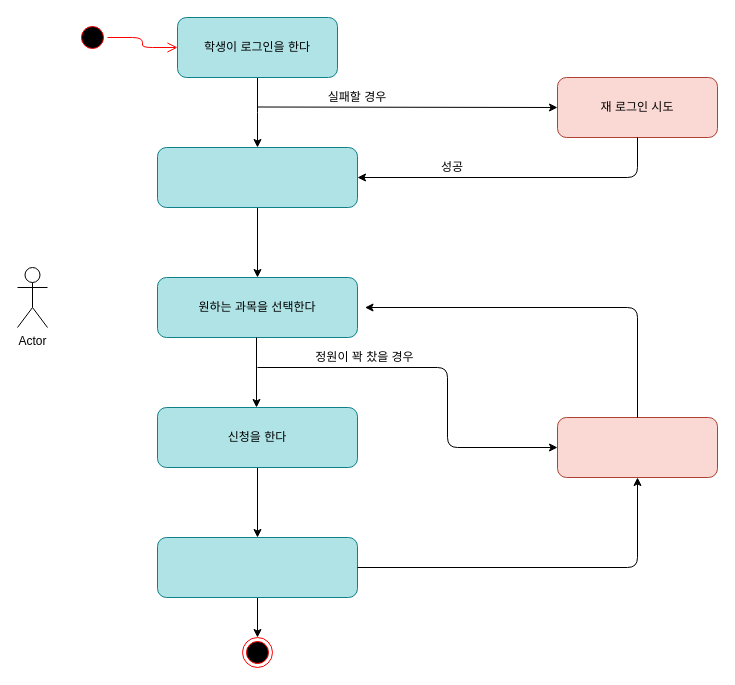
Image size: 735x685. Some labels were removed from this diagram. Here are the shapes that lost their labels. From the top down, the centre of each, then its label:
At (x=257, y=177): "수강 신청 페이지를 누른다".
At (x=637, y=447): "수강 신청 페이지로 이동".
At (x=257, y=567): "수강 신청을 완료한다".
